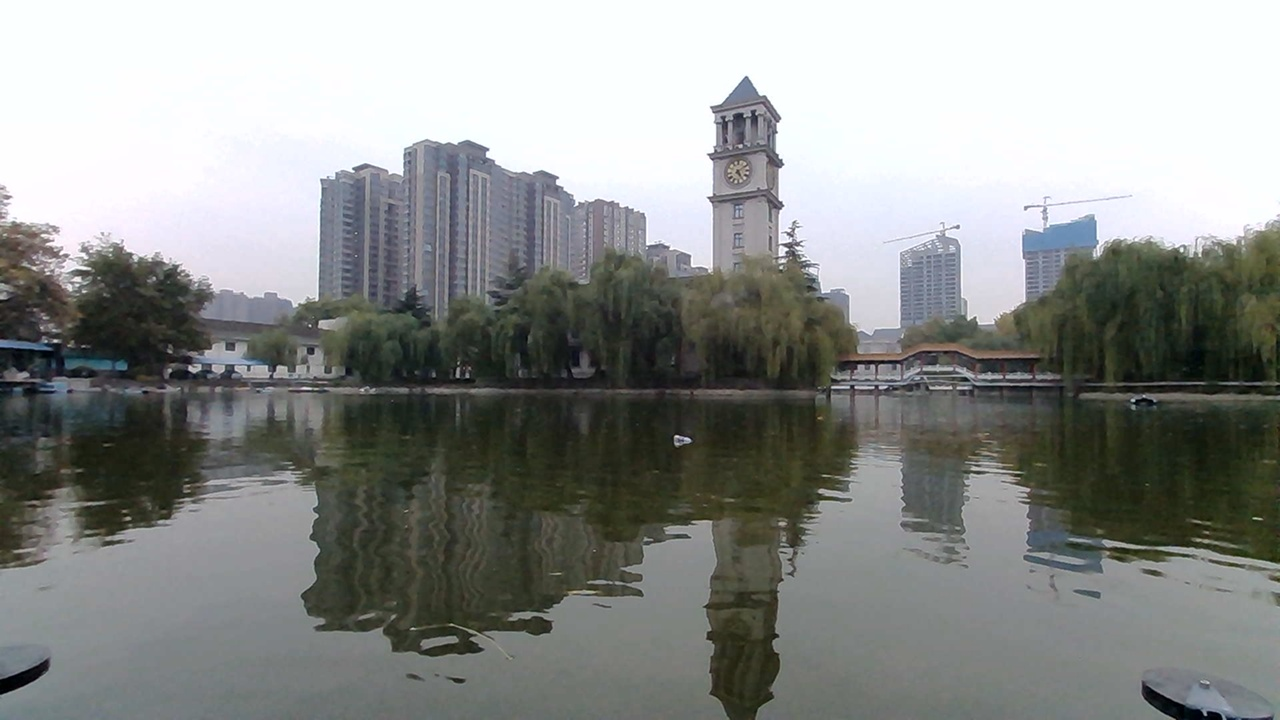bottle: (665, 424, 717, 462)
